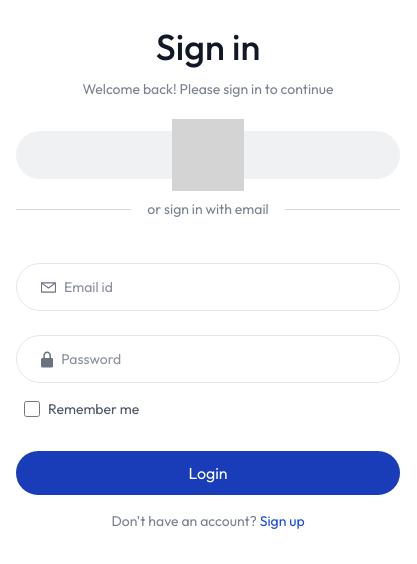
Test case: Login — sign-in mode › surfaces a server error message without navigating
This screenshot has width=417, height=564.
Type "a@b.com" into the field with placeholder "Email id" at (232, 287), box [64, 264, 399, 310]
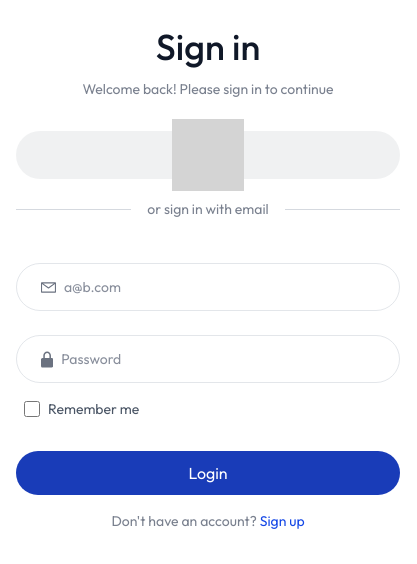
Type "wrong" into the password field with placeholder "Password" at (230, 359), box [61, 336, 399, 382]
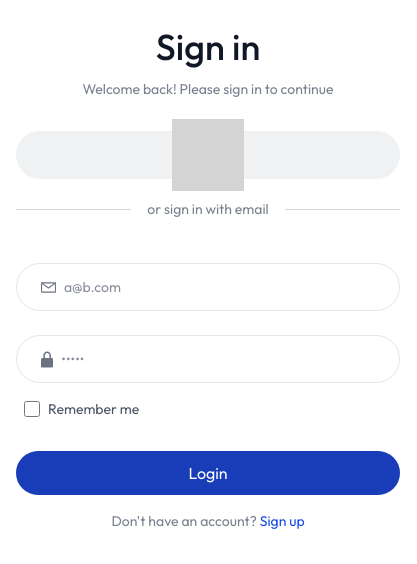
Click the button "Login" at (208, 473), box [16, 451, 400, 495]
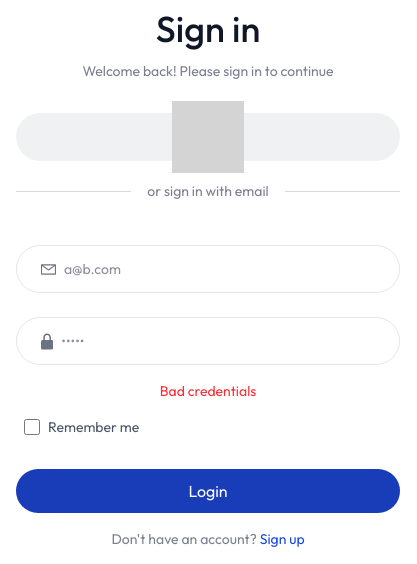
Expected: the text "Bad credentials" is shown, [160, 381, 256, 401]
